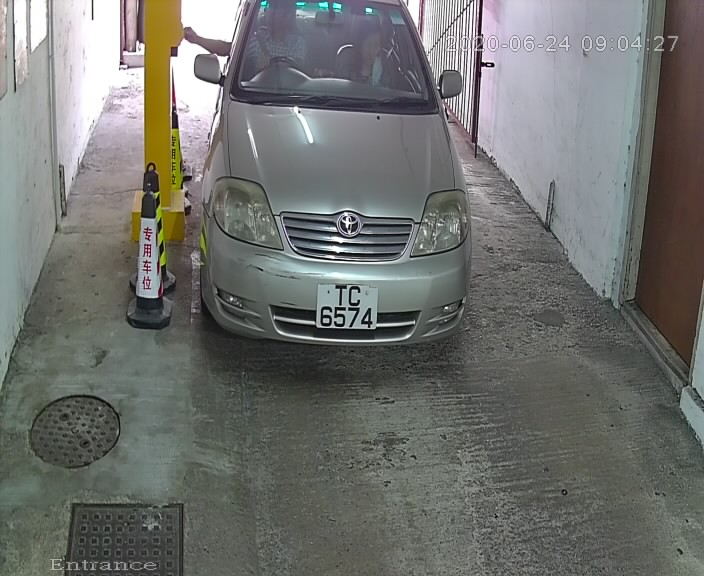privatecar: (175, 1, 484, 383)
